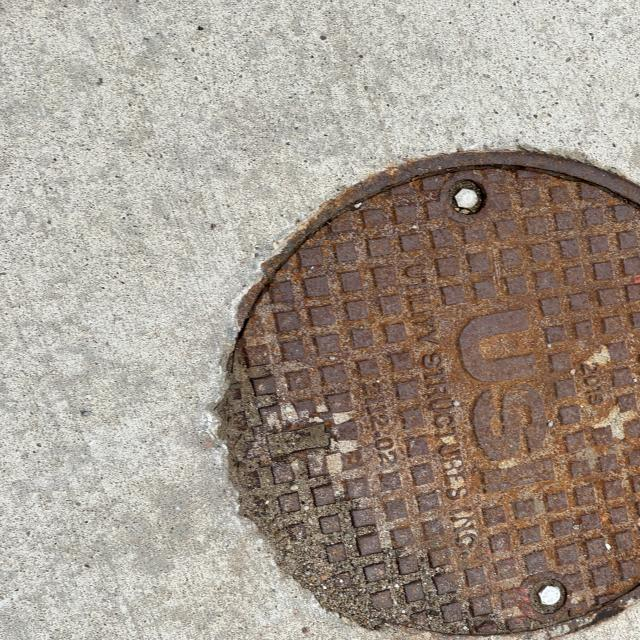Manhole: (222, 142, 639, 617)
